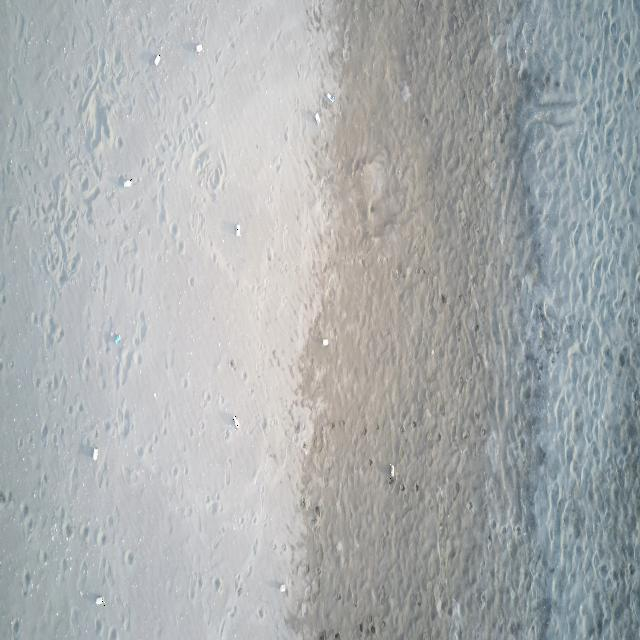Garbage: (324, 91, 335, 103), (388, 464, 395, 480), (91, 447, 98, 460), (123, 178, 132, 187), (232, 415, 238, 428), (313, 112, 319, 124), (154, 53, 160, 64), (114, 333, 120, 344), (235, 223, 240, 236), (96, 596, 104, 604), (280, 584, 286, 592), (195, 44, 201, 51), (322, 338, 327, 346)
